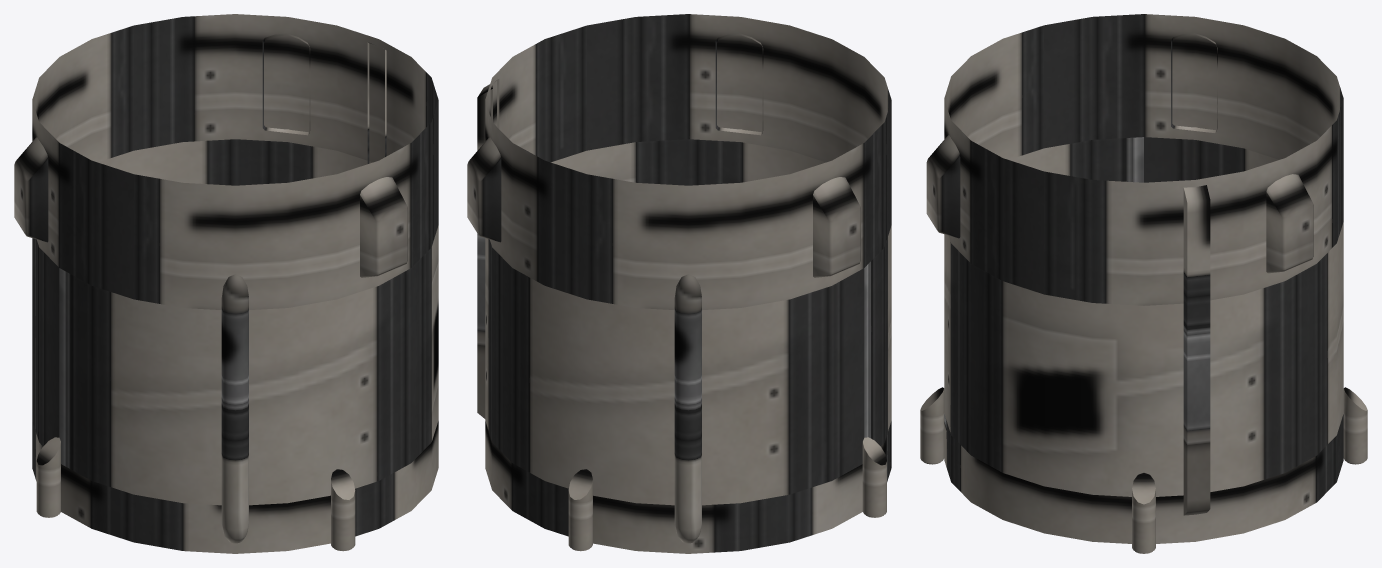
The model's file is fuel3.fbx.
The picture shows the model from 3 angles, left to right: view 1: azimuth 30°, elevation 25°; view 2: azimuth 150°, elevation 25°; view 3: azimuth 270°, elevation 25°; orthographic projection.
Parts seen in each view (by area): view 1: mesh; view 2: mesh; view 3: mesh.
Part boxes in pixels (x1=…): mesh: x1=14, y1=14, x2=438, y2=553; mesh: x1=467, y1=14, x2=891, y2=553; mesh: x1=920, y1=14, x2=1367, y2=553.
Bounding box in the file's own units: 2.8 × 2.5 × 2.8.
